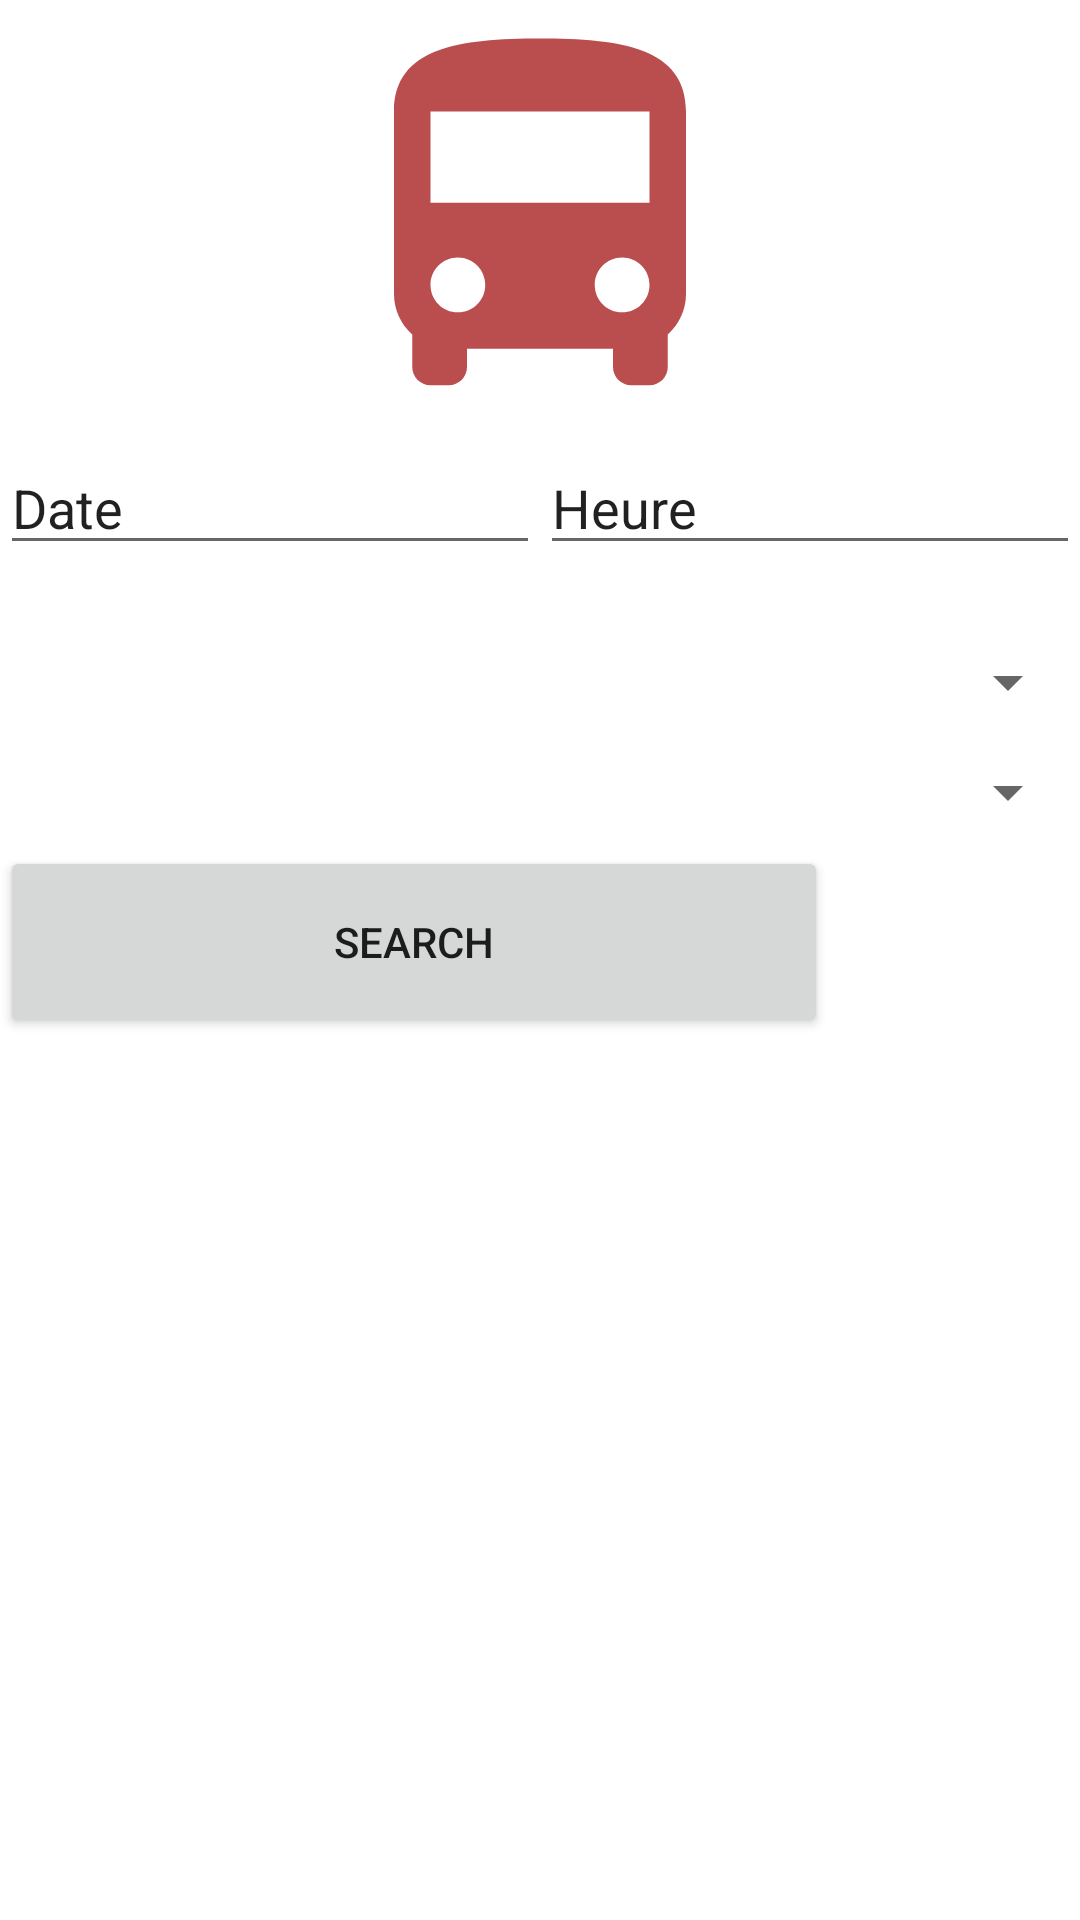

Icons on this 1080 × 1920 Android screen, each with its box as (x1, y1, x2, y2):
bus: (394, 38, 686, 386)
